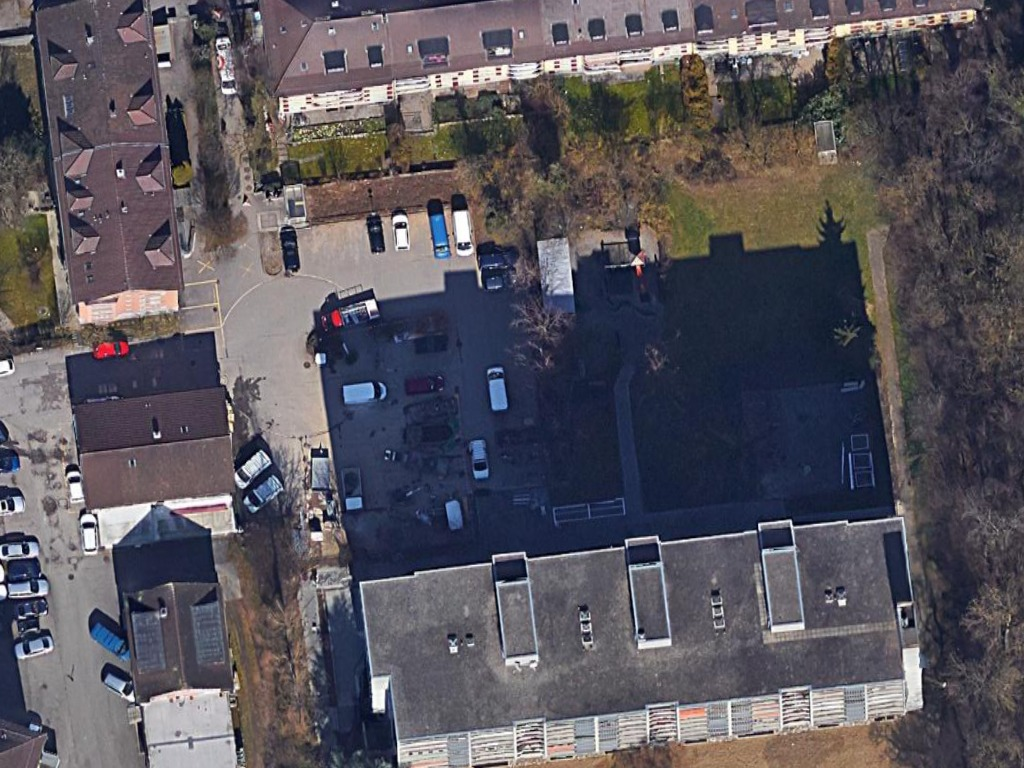car: (3, 574, 52, 601), (11, 632, 55, 662), (387, 207, 412, 258), (61, 466, 86, 517), (77, 509, 101, 561), (400, 372, 446, 399), (467, 437, 492, 484), (0, 535, 42, 562)
van: (86, 619, 133, 664), (241, 470, 285, 517), (231, 447, 276, 492), (338, 376, 389, 410), (427, 209, 453, 264), (449, 207, 475, 261), (484, 362, 509, 418)
